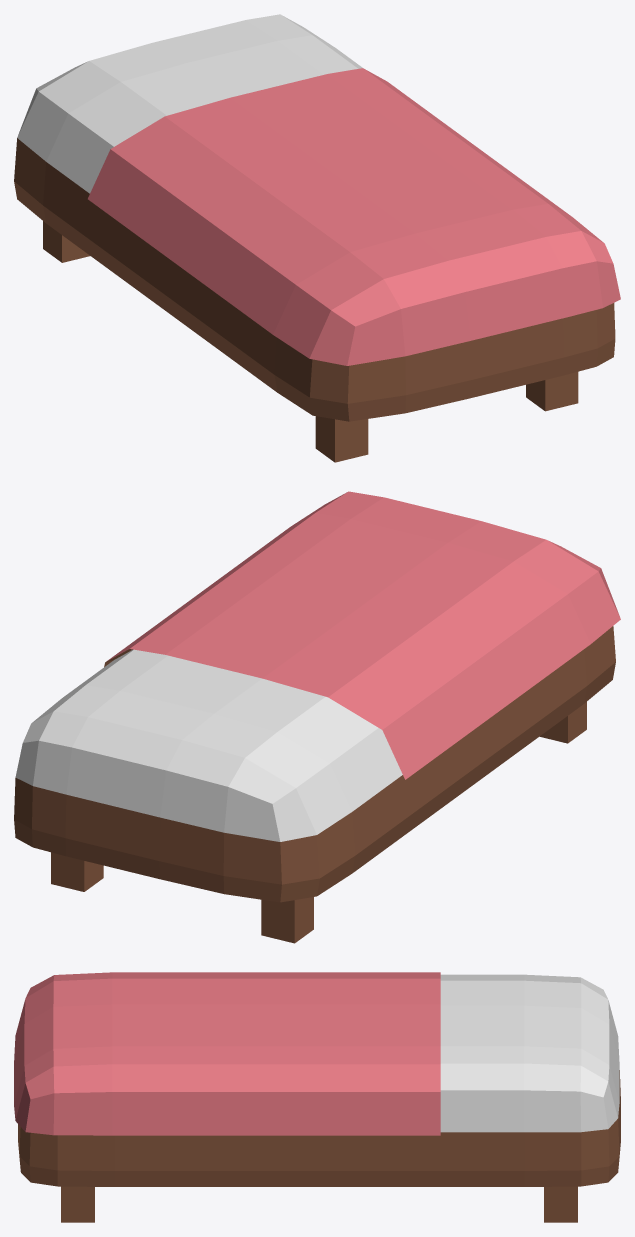
The model's file is Bed.fbx.
The picture shows the model from 3 angles, top to bottom: view 1: azimuth 30°, elevation 25°; view 2: azimuth 150°, elevation 25°; view 3: azimuth 270°, elevation 25°; orthographic projection. The views are drawn at different scales.
Visible parts, largest first — view 1: Bed; view 2: Bed; view 3: Bed.
Boxes of the visible parts, x1,y1,x2,y2 form: Bed: (14,14,620,462); Bed: (14,491,620,943); Bed: (14,972,620,1222).
Bounding box in the file's own units: 204 × 114 × 391.
